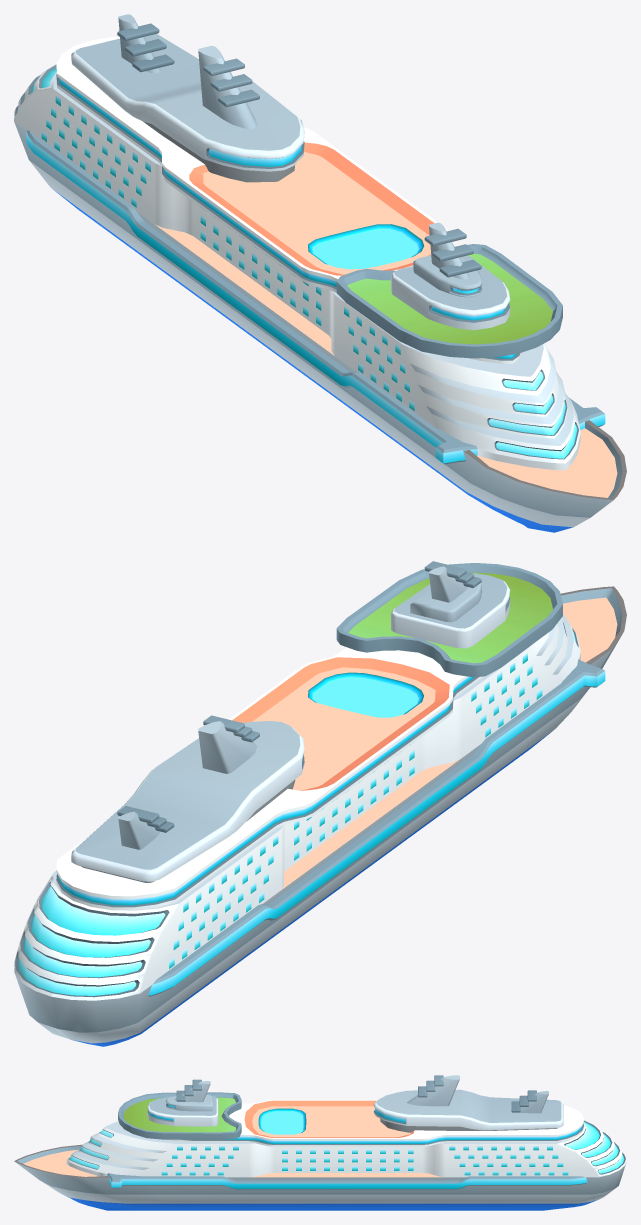
Rendered from city2-cruise-ship-01.glb.
The picture shows the model from 3 angles, top to bottom: view 1: azimuth 30°, elevation 25°; view 2: azimuth 150°, elevation 25°; view 3: azimuth 270°, elevation 25°; orthographic projection. The views are drawn at different scales.
Parts seen in each view (by area): view 1: Cruise_Ship_01; view 2: Cruise_Ship_01; view 3: Cruise_Ship_01.
Part boxes in pixels (x1,y1,x2,y2): Cruise_Ship_01: (14, 14, 626, 532); Cruise_Ship_01: (14, 561, 626, 1046); Cruise_Ship_01: (14, 1075, 626, 1210).
Size of the model in its own units: 14.86 by 21.43 by 89.4.
1 material, 1 textured.
